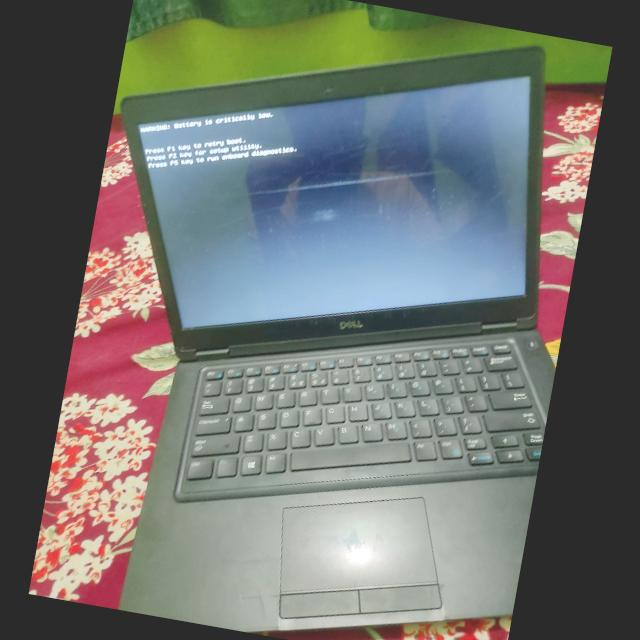laptop: (40, 0, 607, 640)
